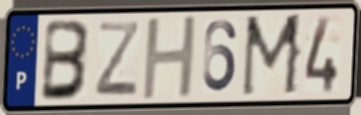4: (302, 14, 341, 96)
6: (202, 18, 239, 96)
B: (39, 18, 94, 104)
H: (140, 13, 200, 103)
M: (239, 11, 306, 100)
Z: (93, 19, 141, 98)
